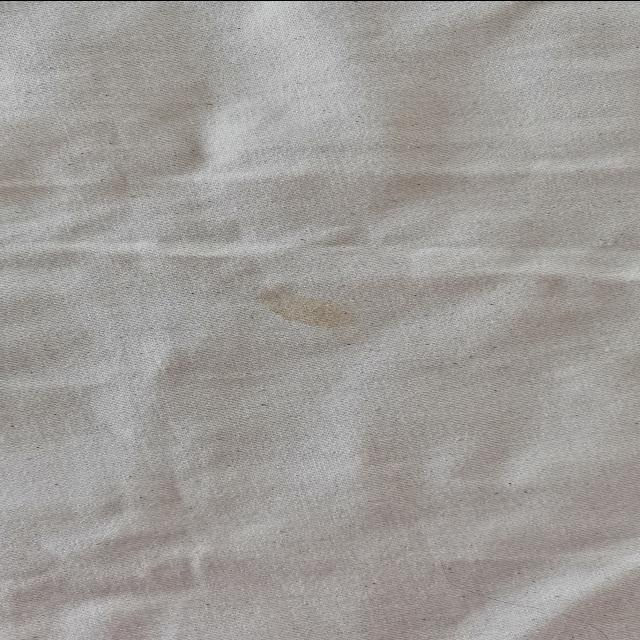taaaches: (248, 279, 368, 328)
